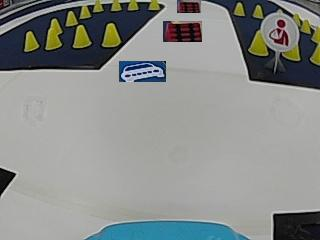cone: (248, 29, 268, 56), (101, 22, 121, 47), (45, 20, 62, 49), (72, 25, 91, 48), (283, 43, 300, 61), (24, 31, 39, 50), (310, 43, 320, 64), (65, 11, 78, 25), (233, 2, 245, 16), (252, 4, 264, 18), (80, 5, 91, 18), (147, 0, 159, 11), (110, 0, 122, 11), (127, 0, 138, 11), (93, 0, 103, 12)
patient: (264, 17, 294, 46)
